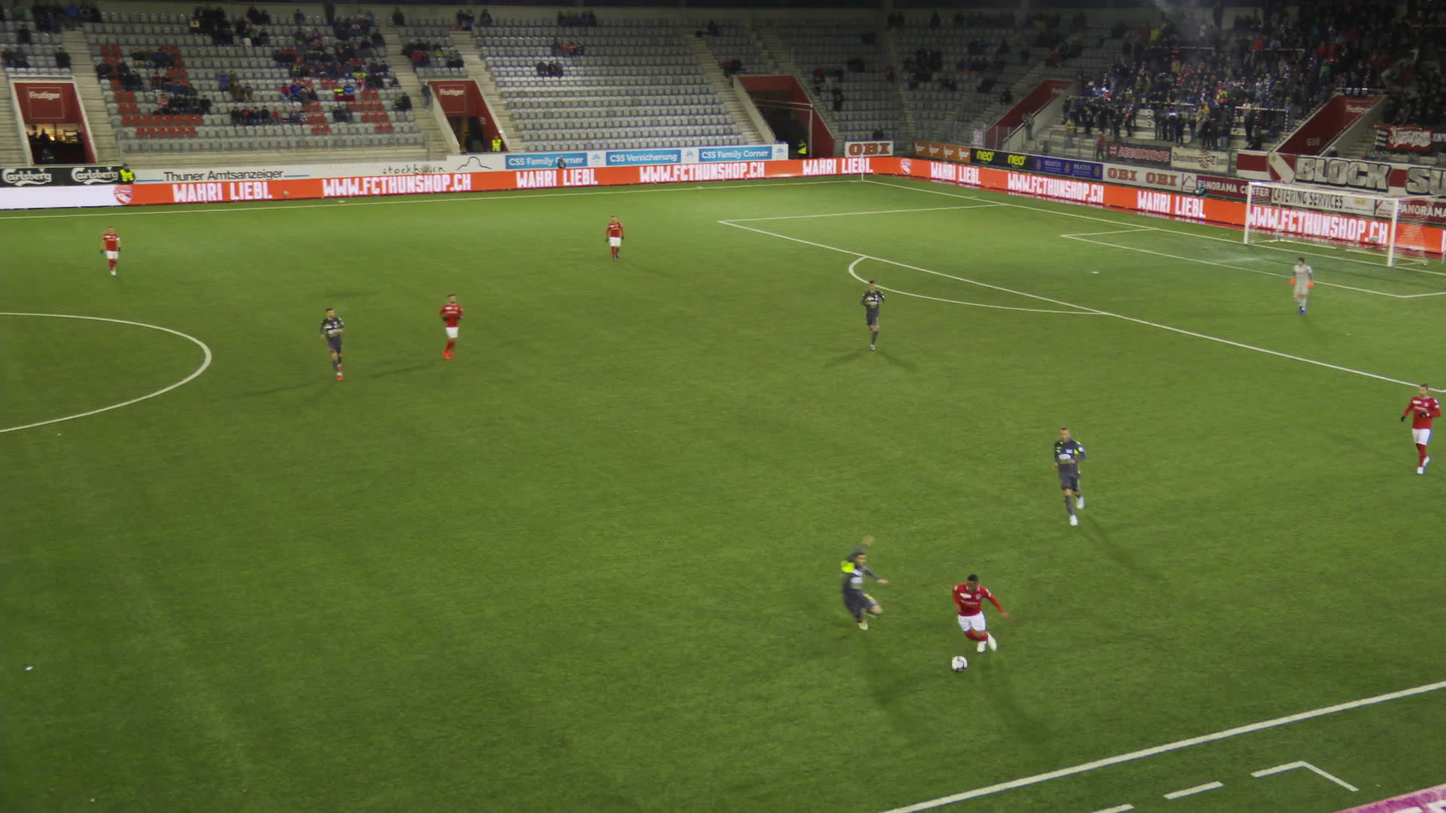ball: (952, 653, 969, 668)
player: (831, 542, 894, 640), (945, 574, 995, 659), (1049, 426, 1092, 521), (1398, 380, 1440, 472), (317, 308, 350, 379), (435, 293, 466, 361), (860, 278, 886, 348), (1290, 256, 1314, 315), (100, 224, 124, 274), (605, 214, 626, 262)
